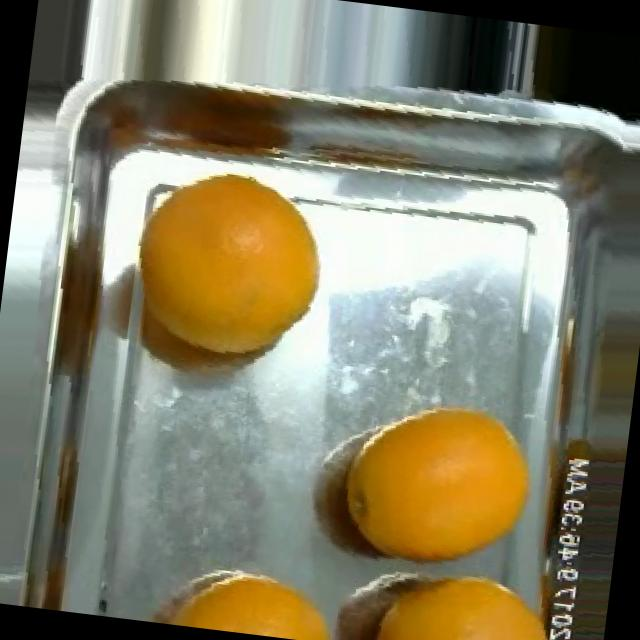Fruit: (305, 371, 557, 592), (143, 547, 349, 640)
